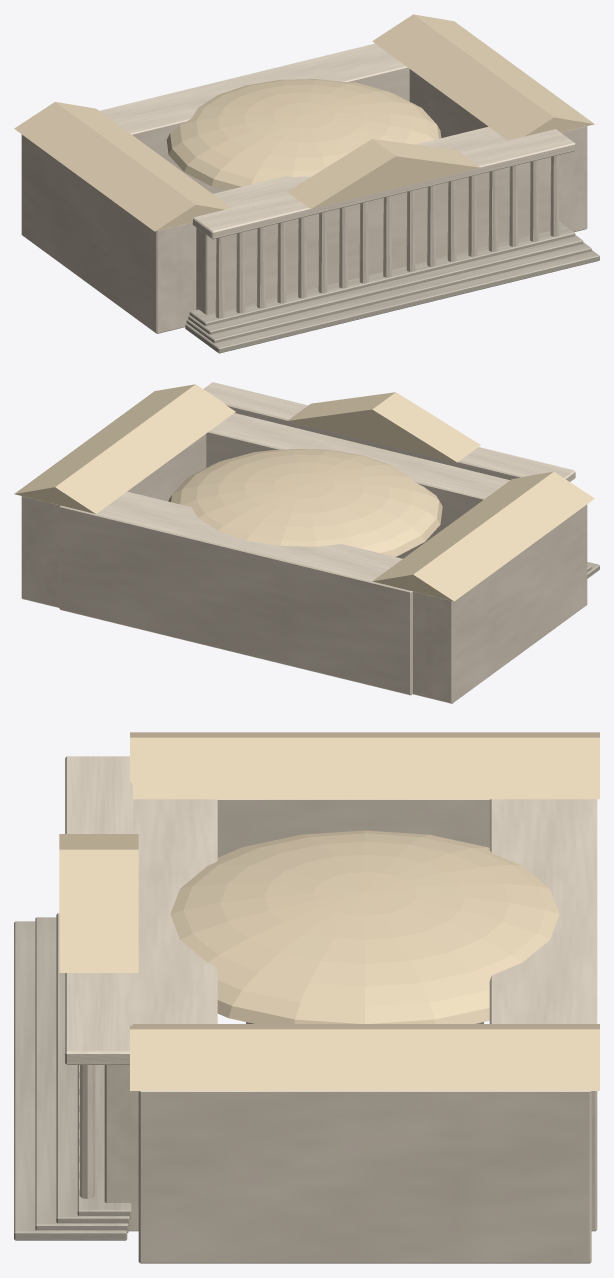
File: british-museum.glb
3 renders of one model, top to bottom at view 1: azimuth 30°, elevation 25°; view 2: azimuth 150°, elevation 25°; view 3: azimuth 270°, elevation 25°, orthographic. The views are drawn at different scales.
Parts seen in each view (by area): view 1: british-museum; view 2: british-museum; view 3: british-museum.
Part boxes in pixels (x1,y1,x2,y2): british-museum: [14, 14, 599, 353]; british-museum: [14, 382, 599, 703]; british-museum: [14, 732, 599, 1263].
Size of the model in its own units: 15 by 4.66 by 10.35.
1 material, 1 textured.
